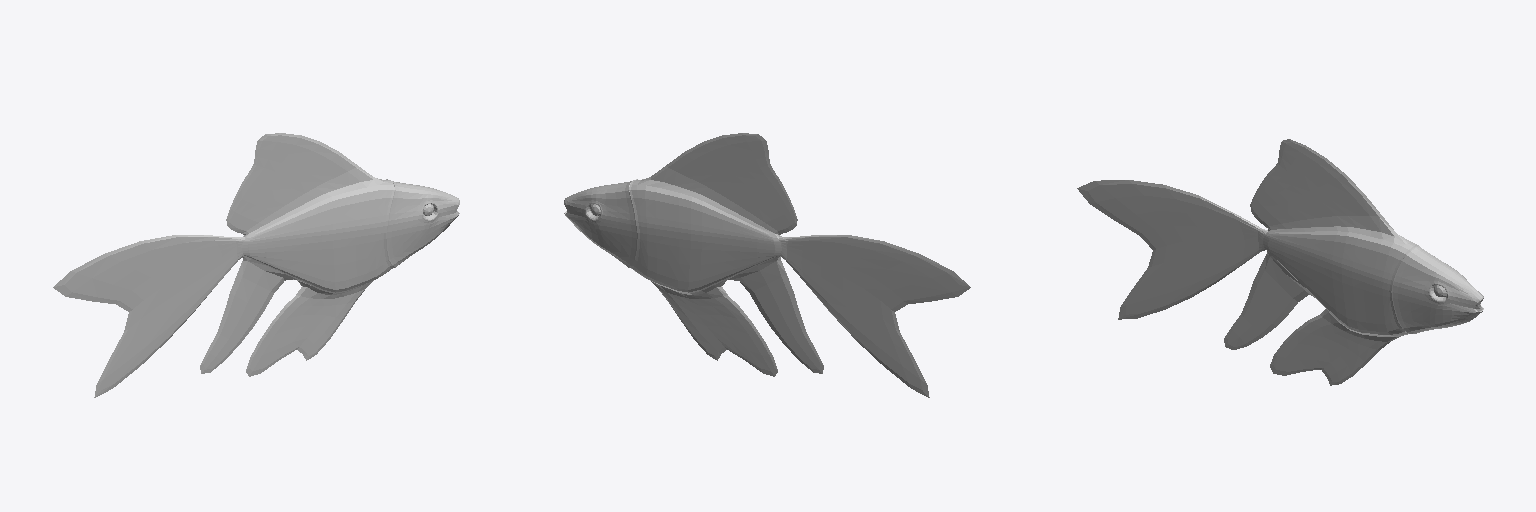
File: fish.obj
3 renders of one model, left to right at view 1: azimuth 30°, elevation 25°; view 2: azimuth 150°, elevation 25°; view 3: azimuth 330°, elevation 25°, orthographic.
Visible parts, largest first — view 1: GoldenFish; view 2: GoldenFish; view 3: GoldenFish.
Part boxes in pixels (bbox=[...]): GoldenFish: bbox=[53, 133, 459, 397]; GoldenFish: bbox=[564, 133, 970, 397]; GoldenFish: bbox=[1077, 139, 1483, 385].
Bounding box in the file's own units: 79.07 × 44.4 × 6.44.